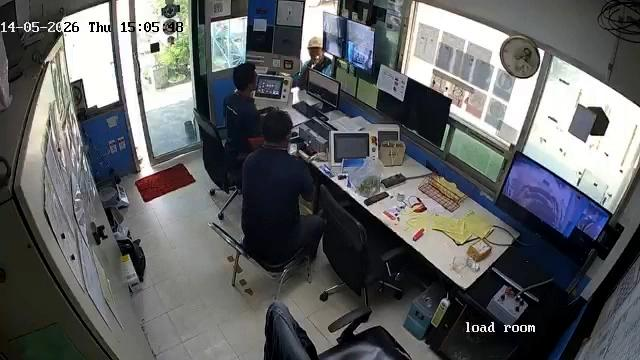Head: (262, 111, 292, 147), (234, 61, 260, 93)
People: (245, 109, 323, 253), (226, 58, 260, 134)
